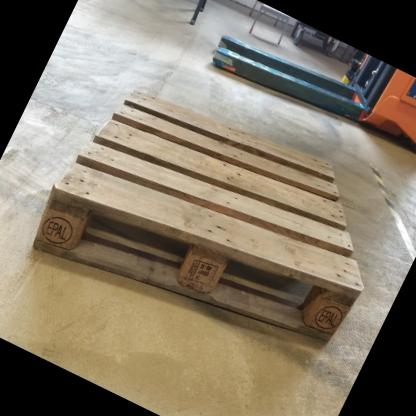BoxFace: (28, 87, 368, 352)
